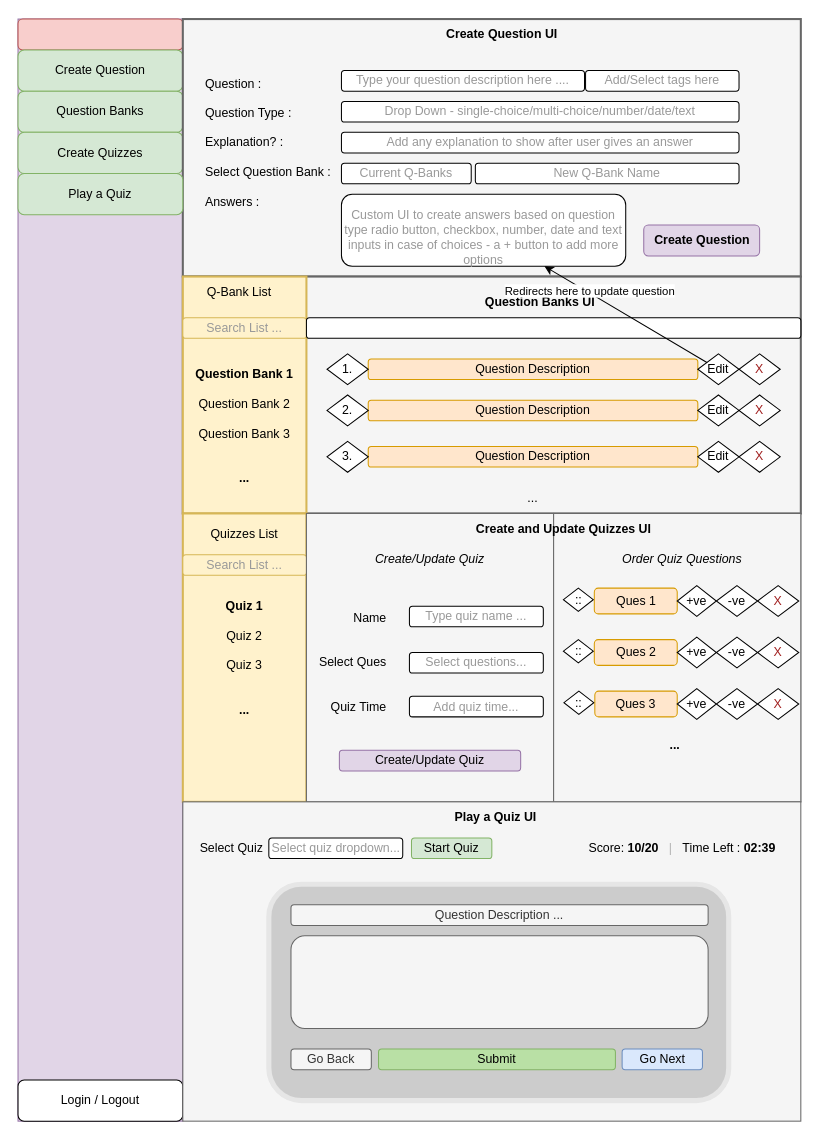
Image size: 820x1139. Some labels were removed from this diagram. The centre of each missing label's shape, as x and y in pixels:
Custom UI for answer selection: (x=499, y=981)
QUIZ Platform: (x=100, y=34)
Search Questions ...: (x=553, y=327)
